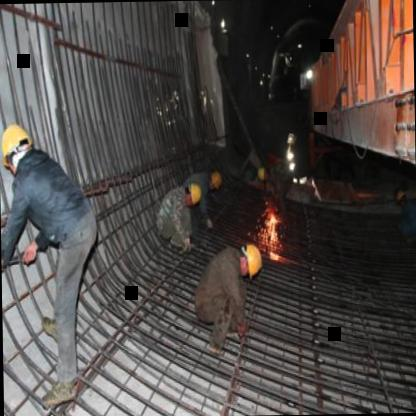helmet: (0, 118, 32, 172), (236, 238, 264, 280), (181, 178, 203, 209), (206, 166, 226, 194), (392, 184, 410, 209), (254, 162, 272, 184)
